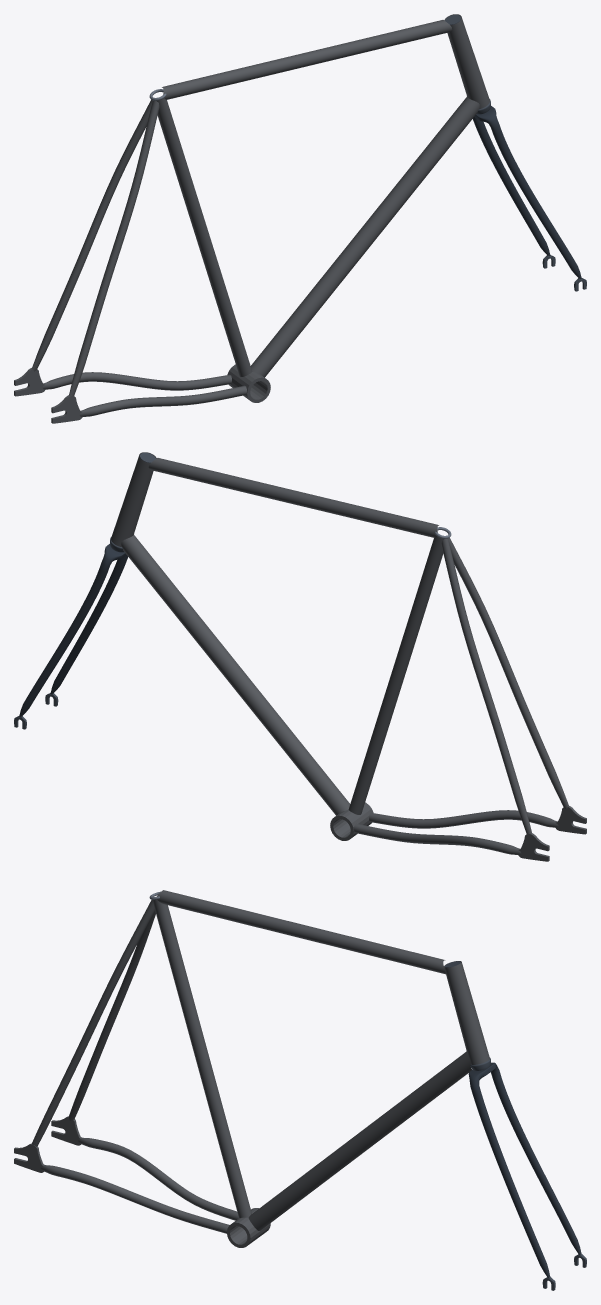
Rendered from wabi-prism-60.glb.
3 renders of one model, top to bottom at view 1: azimuth 30°, elevation 25°; view 2: azimuth 150°, elevation 25°; view 3: azimuth 330°, elevation 25°, orthographic.
Parts seen in each view (by area): view 1: paint_down, paint_top, paint_seat, paint_seatstay_1, paint_seatstay_-1, paint_chainstay_-1, paint_head, paint_chainstay_1, fork_blade_1, fork_blade_-1, paint_bottom_bracket, rear_dropout_1 (+1 smaller); view 2: paint_down, paint_top, paint_seat, paint_seatstay_-1, paint_seatstay_1, paint_chainstay_1, paint_head, paint_chainstay_-1, fork_blade_-1, fork_blade_1, paint_bottom_bracket, rear_dropout_-1 (+1 smaller); view 3: paint_down, paint_seat, paint_top, paint_seatstay_1, paint_head, paint_chainstay_1, paint_seatstay_-1, paint_chainstay_-1, fork_blade_1, fork_blade_-1, paint_bottom_bracket, rear_dropout_-1 (+1 smaller).
Boxes of the visible parts, x1=… form: paint_down: x1=250, y1=97, x2=479, y2=377; paint_top: x1=162, y1=20, x2=452, y2=99; paint_seat: x1=156, y1=98, x2=252, y2=376; paint_seatstay_1: x1=68, y1=100, x2=159, y2=395; paint_seatstay_-1: x1=32, y1=99, x2=152, y2=371; paint_chainstay_-1: x1=42, y1=372, x2=231, y2=390; paint_head: x1=444, y1=14, x2=489, y2=109; paint_chainstay_1: x1=79, y1=385, x2=246, y2=416; fork_blade_1: x1=491, y1=125, x2=581, y2=278; fork_blade_-1: x1=473, y1=117, x2=550, y2=255; paint_bottom_bracket: x1=227, y1=364, x2=270, y2=402; rear_dropout_1: x1=51, y1=395, x2=82, y2=423; paint_down: x1=121, y1=535, x2=350, y2=815; paint_top: x1=148, y1=458, x2=438, y2=537; paint_seat: x1=348, y1=536, x2=444, y2=814; paint_seatstay_-1: x1=441, y1=538, x2=532, y2=833; paint_seatstay_1: x1=448, y1=537, x2=569, y2=809; paint_chainstay_1: x1=369, y1=810, x2=558, y2=828; paint_head: x1=111, y1=452, x2=156, y2=546; paint_chainstay_-1: x1=354, y1=823, x2=521, y2=854; fork_blade_-1: x1=19, y1=563, x2=109, y2=716; fork_blade_1: x1=50, y1=555, x2=127, y2=693; paint_bottom_bracket: x1=330, y1=802, x2=373, y2=840; rear_dropout_-1: x1=518, y1=833, x2=549, y2=861; paint_down: x1=248, y1=1051, x2=472, y2=1230; paint_seat: x1=152, y1=899, x2=251, y2=1217; paint_top: x1=157, y1=890, x2=445, y2=974; paint_seatstay_1: x1=31, y1=900, x2=154, y2=1146; paint_head: x1=444, y1=961, x2=489, y2=1064; paint_chainstay_1: x1=41, y1=1164, x2=229, y2=1233; paint_seatstay_-1: x1=68, y1=910, x2=155, y2=1120; paint_chainstay_-1: x1=78, y1=1137, x2=238, y2=1220; fork_blade_1: x1=471, y1=1086, x2=550, y2=1278; fork_blade_-1: x1=491, y1=1071, x2=581, y2=1255; paint_bottom_bracket: x1=227, y1=1208, x2=270, y2=1247; rear_dropout_-1: x1=51, y1=1116, x2=81, y2=1145.
Size of the model in its own units: 1.04 by 0.6082 by 0.144.
